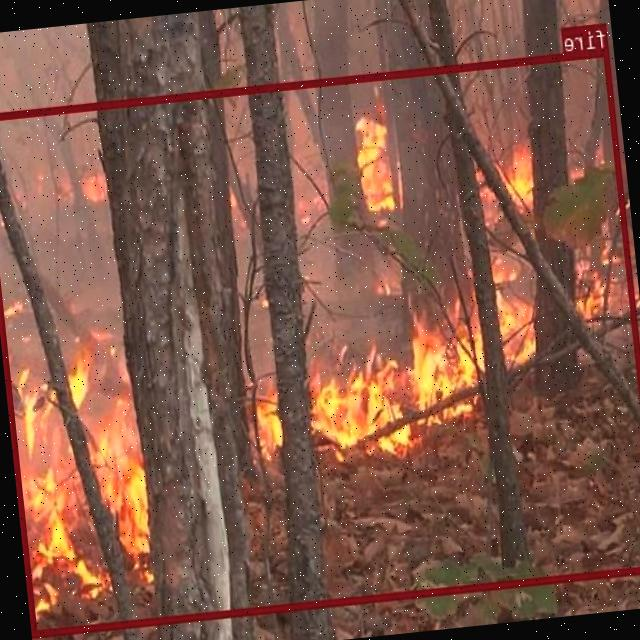fire: (0, 48, 640, 635)
